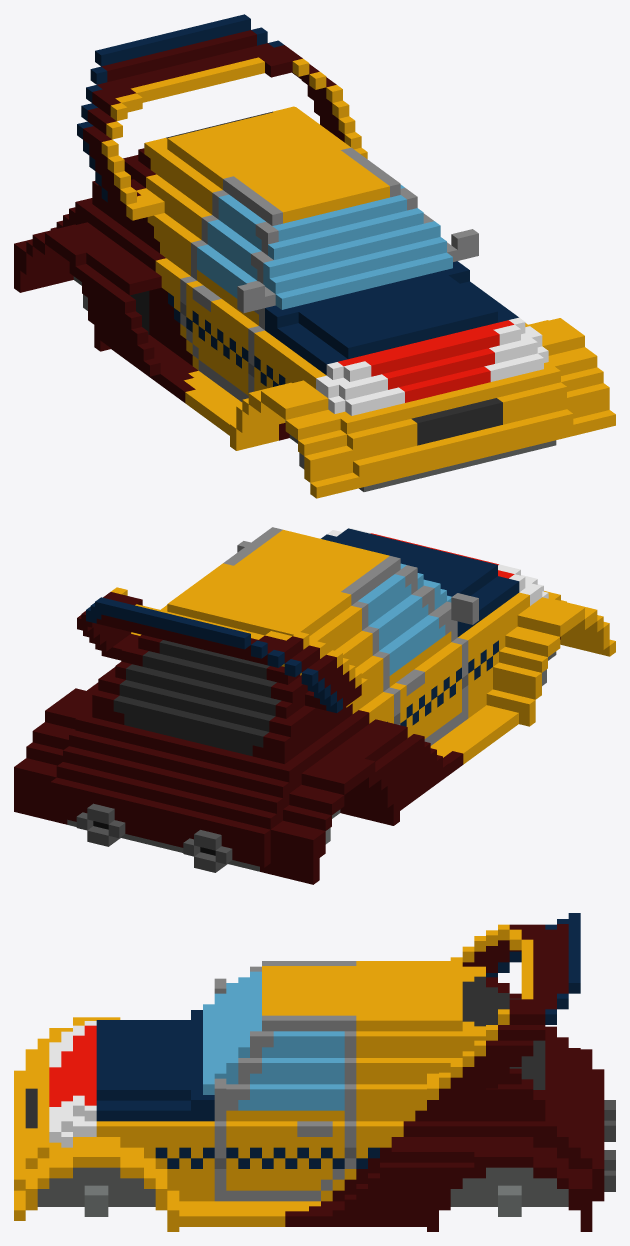
Rendered from RallyX_Car.obj.
3 views of the same model, one above another, from view 1: azimuth 30°, elevation 25°; view 2: azimuth 150°, elevation 25°; view 3: azimuth 270°, elevation 25° (orthographic). The views are drawn at different scales.
Parts seen in each view (by area): view 1: RallyX_Car; view 2: RallyX_Car; view 3: RallyX_Car.
Part boxes in pixels (<box>): RallyX_Car: <box>14,14,615,498</box>; RallyX_Car: <box>14,527,615,884</box>; RallyX_Car: <box>14,913,615,1231</box>.
Size of the model in its own units: 28 by 20 by 51.
